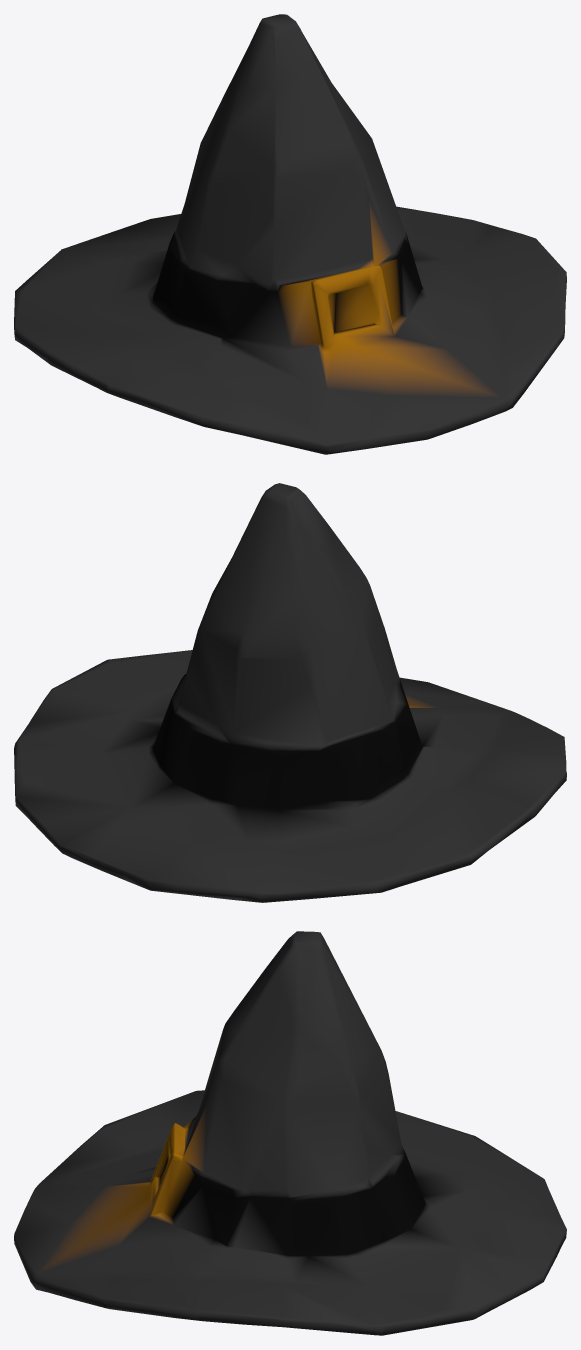
File: gen3d-wizard-hat-lod1.glb
3 renders of one model, top to bottom at view 1: azimuth 30°, elevation 25°; view 2: azimuth 150°, elevation 25°; view 3: azimuth 270°, elevation 25°, orthographic.
Parts seen in each view (by area): view 1: part_0; view 2: part_0; view 3: part_0.
Part boxes in pixels (x1=…): part_0: x1=14, y1=14, x2=566, y2=454; part_0: x1=14, y1=483, x2=566, y2=902; part_0: x1=14, y1=931, x2=566, y2=1335.
Size of the model in its own units: 1.63 by 0.9999 by 1.63.
